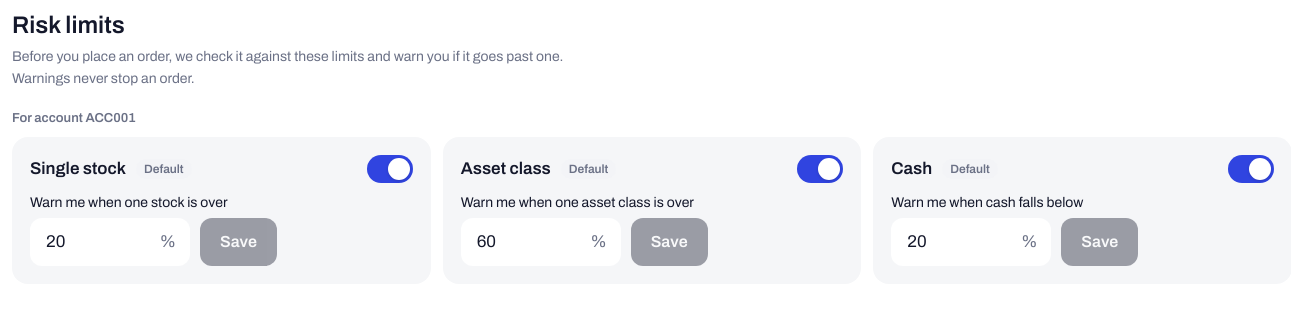
Test: RiskLimitsComponent › saves a new threshold and shows it as custom with a reset option
This screenshot has width=1291, height=309.
Check: the submit button is disabled, box [1061,218,1138,266]
Replace the text in the field labelled "Warn me when cash falls below" with "40": (960, 242) [905,231,1015,252]
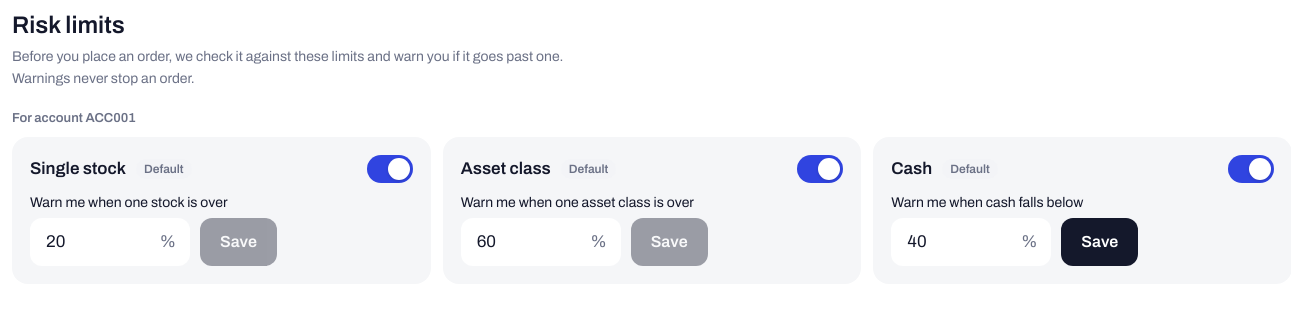
Click the submit button: click(1100, 242) [1061,218,1138,266]
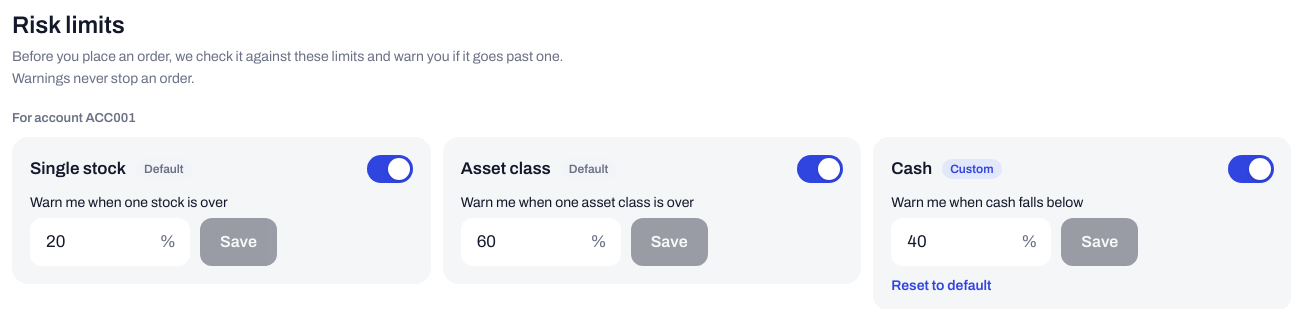
Check: the text with class "badge" reads "Custom", box [950,162,994,176]
Check: the button with class "reset" is shown, box [891,278,992,293]
